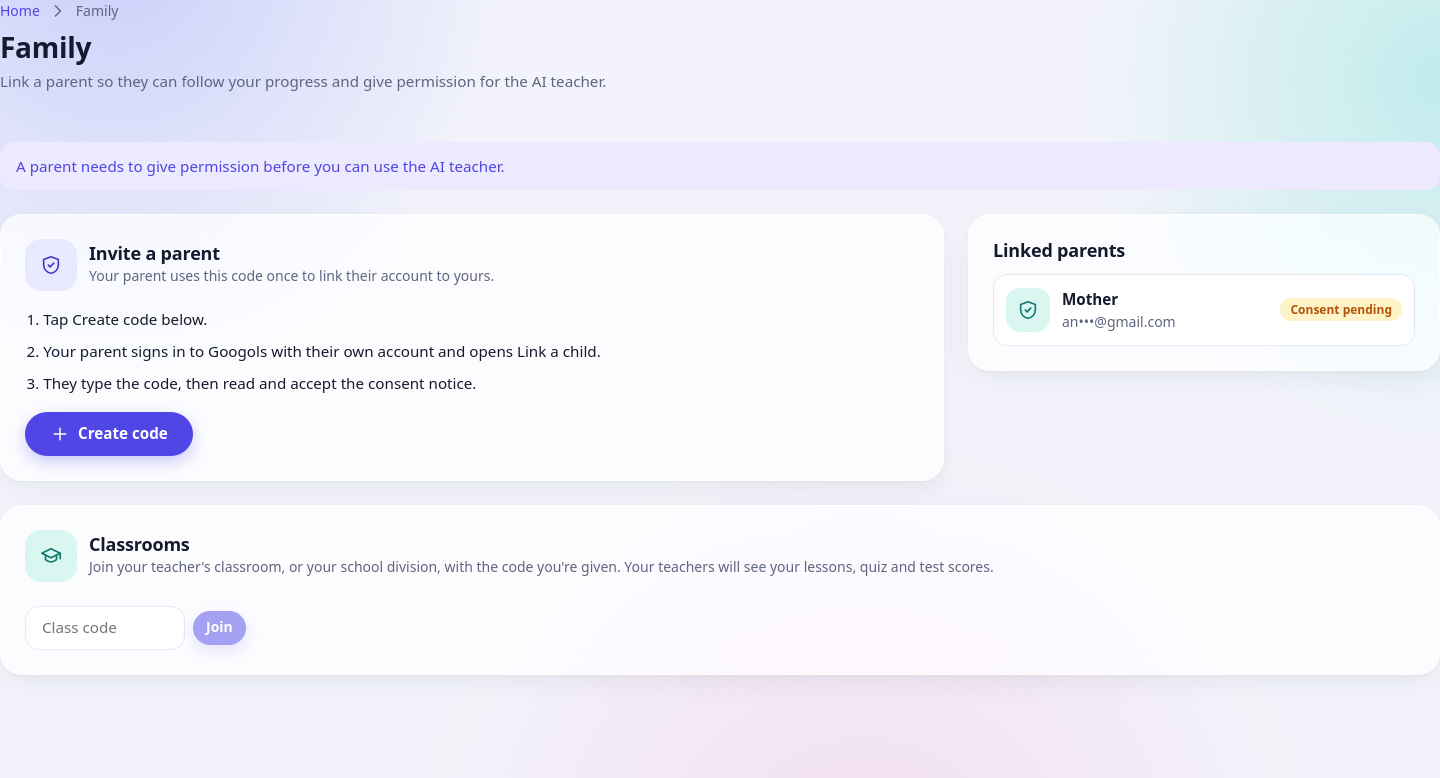
Test: Student family page › creates a one-time parent code and lists linked parents
Expected: the text "an•••@gmail.com" is shown, [1062,312,1176,331]
Expected: the text "Consent pending" is shown, [1280,298,1402,322]
Click the button "Create code" at (109, 434), box [25,412,193,456]
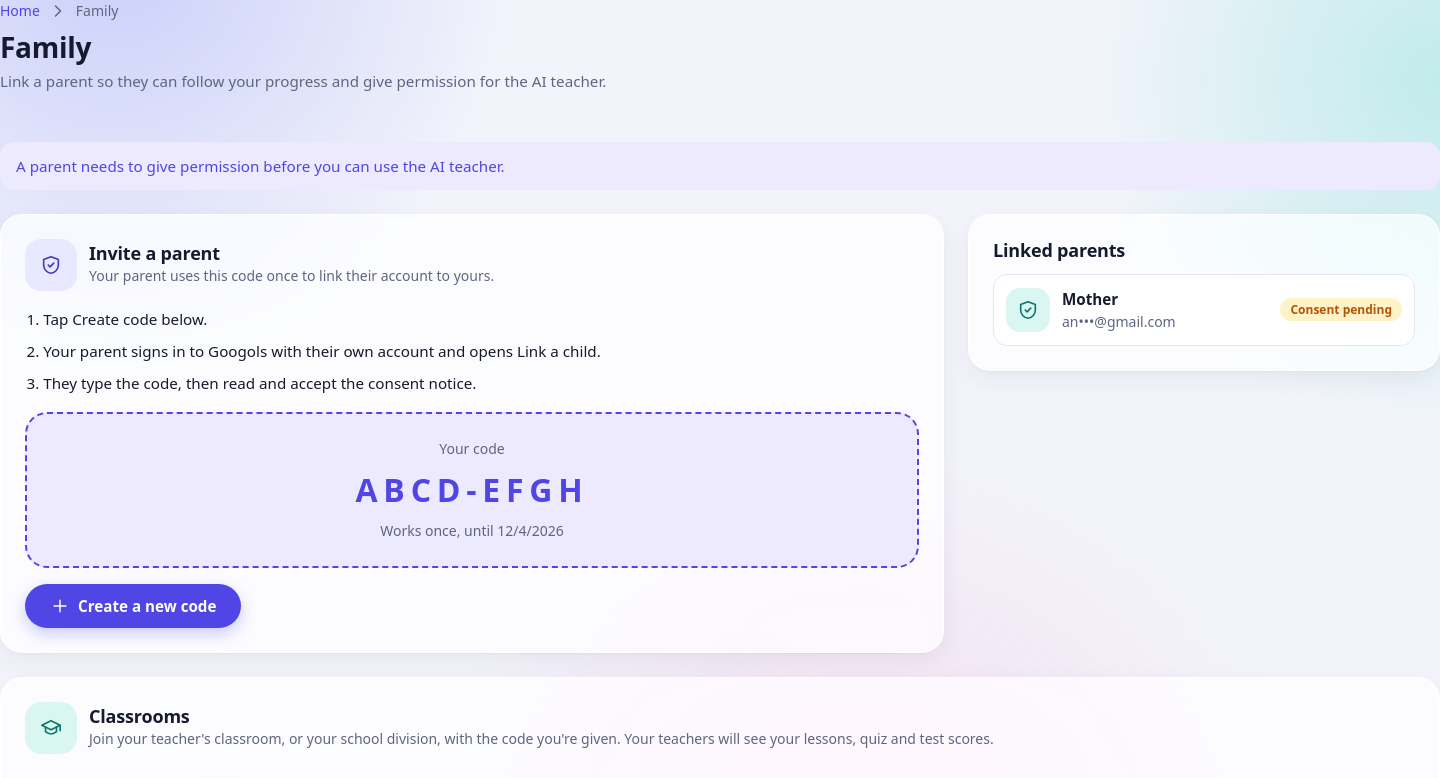
Expected: the text with test id "parent-code" reads "ABCD-EFGH", [356,468,588,511]
